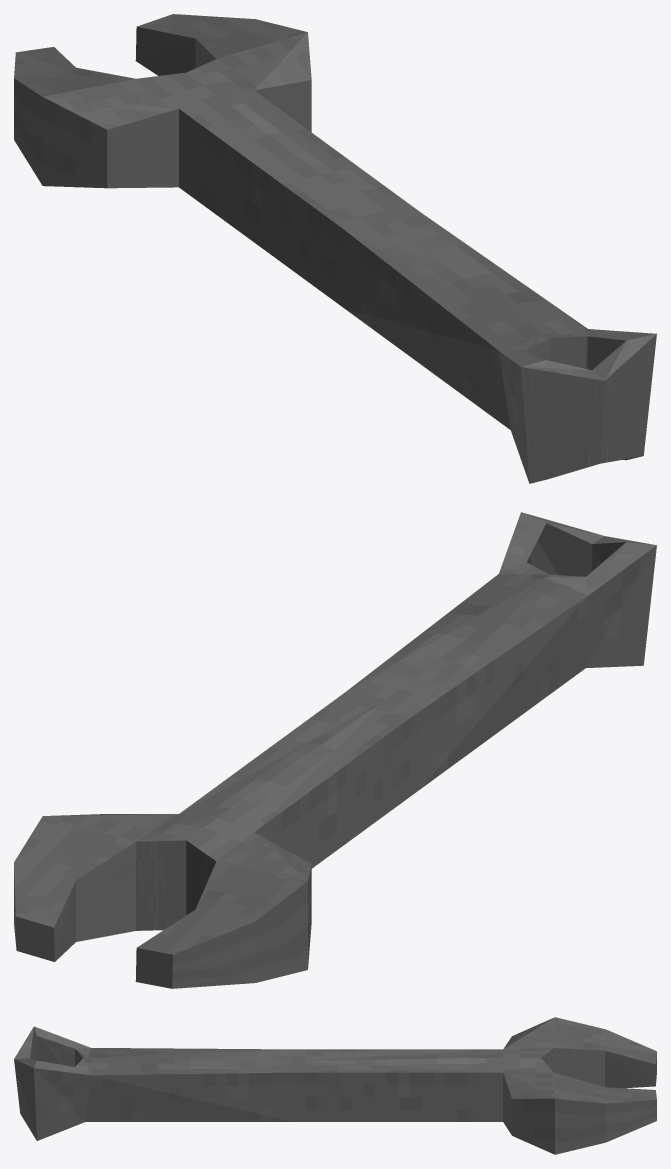
Rendered from wrench.glb.
3 views of the same model, one above another, from view 1: azimuth 30°, elevation 25°; view 2: azimuth 150°, elevation 25°; view 3: azimuth 270°, elevation 25° (orthographic). The views are drawn at different scales.
Parts seen in each view (by area): view 1: Cube.001; view 2: Cube.001; view 3: Cube.001.
Part boxes in pixels (box(x1,y1,x2,y2)): Cube.001: box(14, 14, 656, 483); Cube.001: box(14, 512, 656, 988); Cube.001: box(14, 1017, 656, 1154).
Bounding box in the file's own units: 0.9019 × 0.3942 × 3.
1 material, 1 textured.
